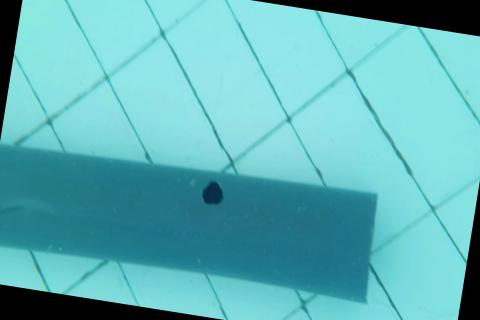kebocoran: (198, 177, 226, 207)
keretakan: (0, 198, 26, 246)
